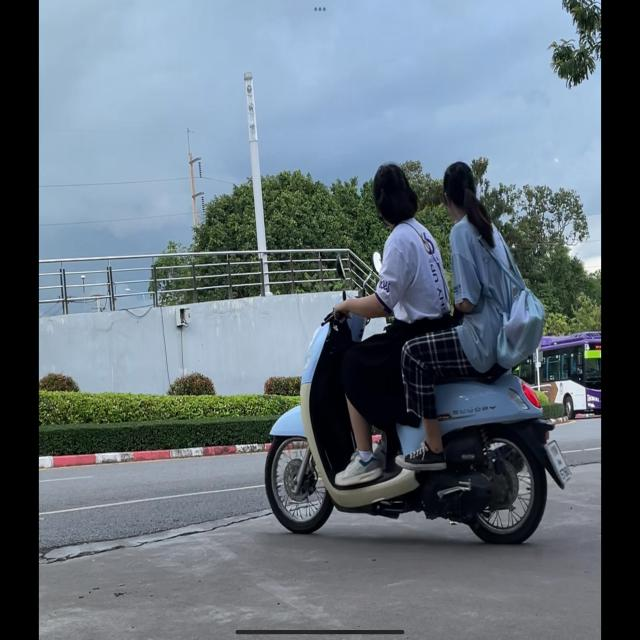seatbelt: (372, 161, 412, 228), (442, 159, 477, 222)
